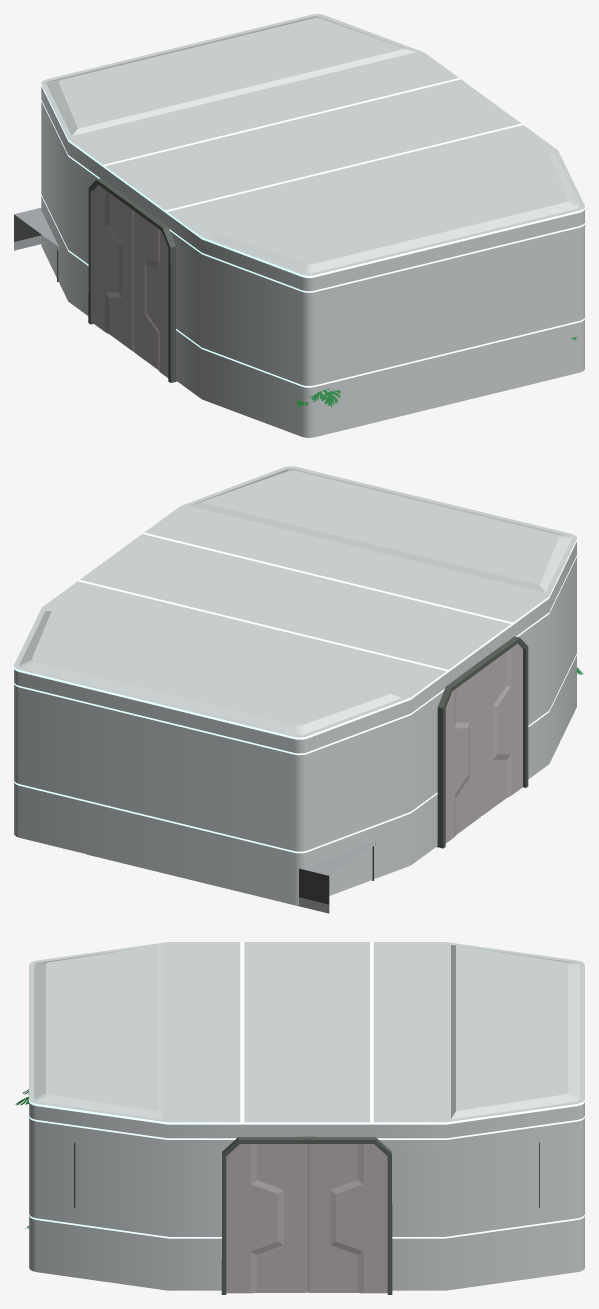
The picture shows the model from 3 angles, top to bottom: view 1: azimuth 30°, elevation 25°; view 2: azimuth 150°, elevation 25°; view 3: azimuth 270°, elevation 25°; orthographic projection. The views are drawn at different scales.
Visible parts, largest first — view 1: roof, room_wall, door.001, door_frame.001, sitting_table; view 2: roof, room_wall, door.001, door_frame.001, sitting_table; view 3: roof, room_wall, door, door_frame.
Boxes of the visible parts, x1,y1,x2,y2 form: roof: (41, 14, 584, 275); room_wall: (41, 84, 584, 437); door.001: (93, 185, 168, 377); door_frame.001: (88, 178, 176, 382); sitting_table: (14, 208, 58, 282); roof: (14, 466, 576, 737); room_wall: (14, 539, 576, 905); door.001: (445, 643, 522, 843); door_frame.001: (436, 636, 528, 848); sitting_table: (86, 842, 375, 913); roof: (29, 942, 584, 1122); room_wall: (29, 1100, 584, 1290); door: (226, 1144, 387, 1293); door_frame: (221, 1136, 392, 1294).
Bounding box in the file's own units: 4.75 × 2.06 × 6.15.
